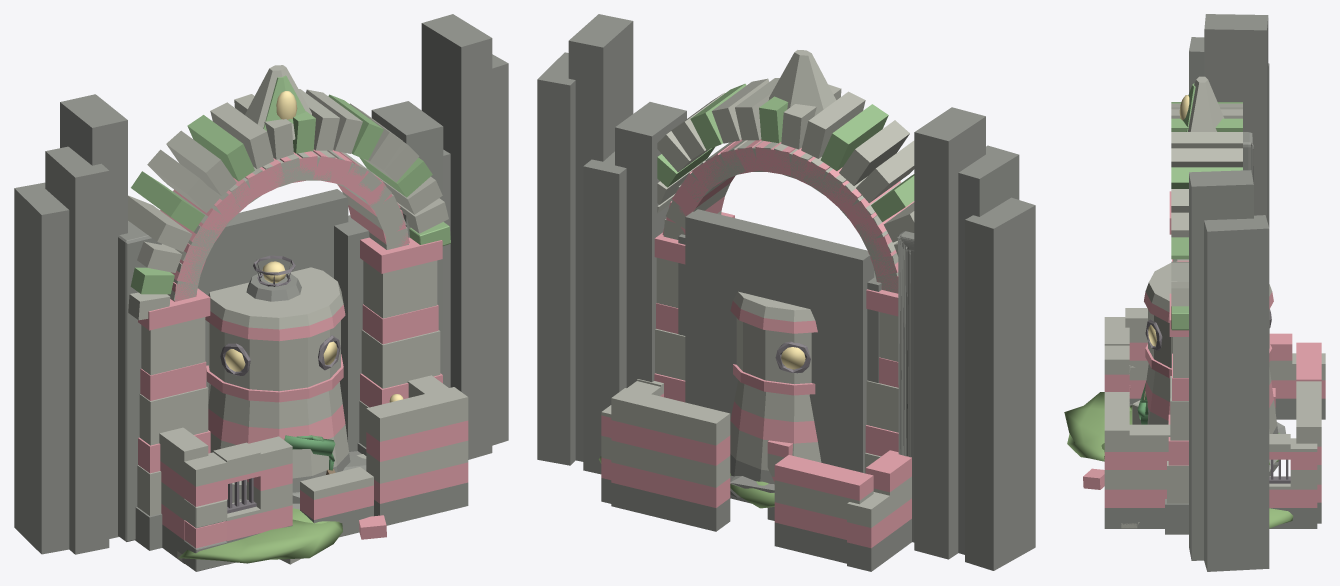
File: AshenF11Kit.fbx
3 views of the same model, side by side, from view 1: azimuth 30°, elevation 25°; view 2: azimuth 150°, elevation 25°; view 3: azimuth 270°, elevation 25° (orthographic). The views are drawn at different scales.
Parts seen in each view (by area): view 1: CinderGateArch__STONE, CinderGateArch__TRIM, CinderGateArch__ALT, WatchKilnTower__TRIM, TollHouseRuins__TRIM, TollHouseRuins__ALT, CinderGateArch__ACCENT, WatchKilnTower__ALT, TollHouseRuins__STONE, TollHouseRuins__MOSS, WatchKilnTower__STONE, WatchKilnTower__METAL (+3 smaller); view 2: CinderGateArch__STONE, CinderGateArch__TRIM, TollHouseRuins__ALT, CinderGateArch__ALT, TollHouseRuins__TRIM, WatchKilnTower__TRIM, TollHouseRuins__STONE, CinderGateArch__ACCENT, WatchKilnTower__ALT, WatchKilnTower__STONE, BuriedWagon__MOSS; view 3: CinderGateArch__STONE, TollHouseRuins__TRIM, CinderGateArch__TRIM, TollHouseRuins__ALT, WatchKilnTower__TRIM, TollHouseRuins__STONE, TollHouseRuins__MOSS, CinderGateArch__ACCENT, CinderGateArch__ALT, WatchKilnTower__ALT.
Part boxes in pixels (<box>): CinderGateArch__STONE: <box>14,14,508,554</box>; CinderGateArch__TRIM: <box>128,65,448,564</box>; CinderGateArch__ALT: <box>138,149,442,473</box>; WatchKilnTower__TRIM: <box>208,267,348,502</box>; TollHouseRuins__TRIM: <box>159,375,468,564</box>; TollHouseRuins__ALT: <box>160,420,468,548</box>; CinderGateArch__ACCENT: <box>130,75,450,294</box>; WatchKilnTower__ALT: <box>205,305,345,444</box>; TollHouseRuins__STONE: <box>162,482,468,571</box>; TollHouseRuins__MOSS: <box>178,519,342,563</box>; WatchKilnTower__STONE: <box>239,273,366,509</box>; WatchKilnTower__METAL: <box>220,255,340,375</box>; CinderGateArch__STONE: <box>537,14,1035,570</box>; CinderGateArch__TRIM: <box>655,50,914,473</box>; TollHouseRuins__ALT: <box>601,393,911,548</box>; CinderGateArch__ALT: <box>654,139,914,456</box>; TollHouseRuins__TRIM: <box>601,379,911,527</box>; WatchKilnTower__TRIM: <box>730,291,821,470</box>; TollHouseRuins__STONE: <box>601,478,911,571</box>; CinderGateArch__ACCENT: <box>657,83,914,221</box>; WatchKilnTower__ALT: <box>730,301,817,443</box>; WatchKilnTower__STONE: <box>730,454,774,498</box>; BuriedWagon__MOSS: <box>730,473,774,508</box>; CinderGateArch__STONE: <box>1165,14,1269,571</box>; TollHouseRuins__TRIM: <box>1104,308,1325,489</box>; CinderGateArch__TRIM: <box>1121,76,1242,528</box>; TollHouseRuins__ALT: <box>1083,333,1325,507</box>; WatchKilnTower__TRIM: <box>1132,261,1277,433</box>; TollHouseRuins__STONE: <box>1104,398,1325,528</box>; TollHouseRuins__MOSS: <box>1064,392,1293,528</box>; CinderGateArch__ACCENT: <box>1171,83,1242,330</box>; CinderGateArch__ALT: <box>1168,191,1188,465</box>; WatchKilnTower__ALT: <box>1144,292,1273,420</box>.
Bounding box in the file's own units: 58.32 × 51.89 × 31.33.
